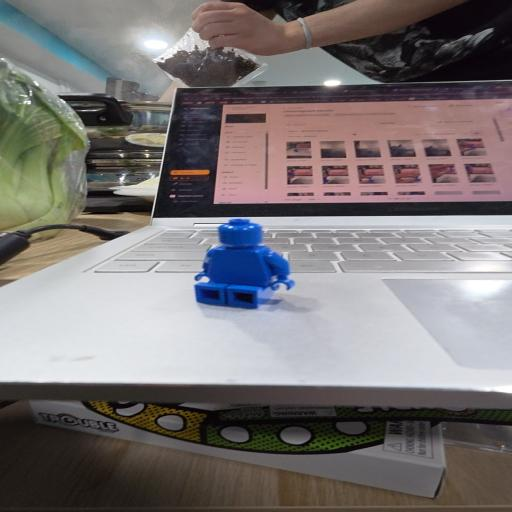Blue: (194, 219, 294, 308)
